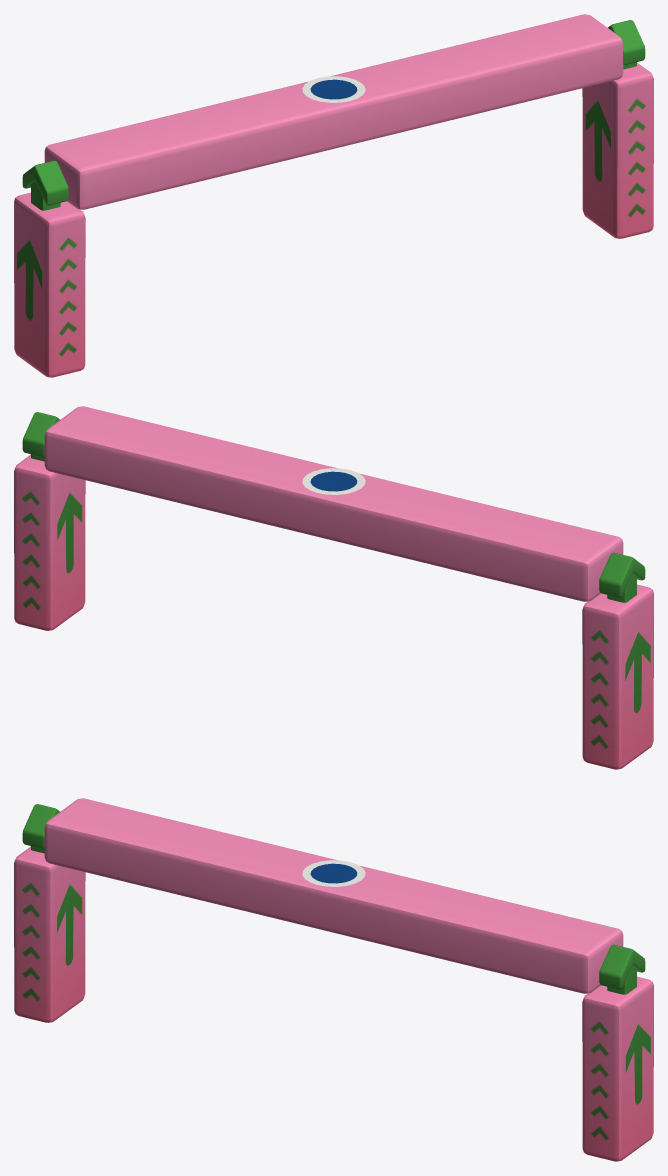
The picture shows the model from 3 angles, top to bottom: view 1: azimuth 30°, elevation 25°; view 2: azimuth 150°, elevation 25°; view 3: azimuth 330°, elevation 25°; orthographic projection.
Parts seen in each view (by area): view 1: shape3_5, top_cycle; view 2: shape3_5, top_cycle; view 3: shape3_5, top_cycle.
Part boxes in pixels (<box>): shape3_5: <box>14,14,653,377</box>; top_cycle: <box>302,76,365,102</box>; shape3_5: <box>14,406,653,769</box>; top_cycle: <box>302,468,365,494</box>; shape3_5: <box>14,798,653,1161</box>; top_cycle: <box>302,860,365,886</box>.
Size of the model in its own units: 46.99 by 15.08 by 5.
